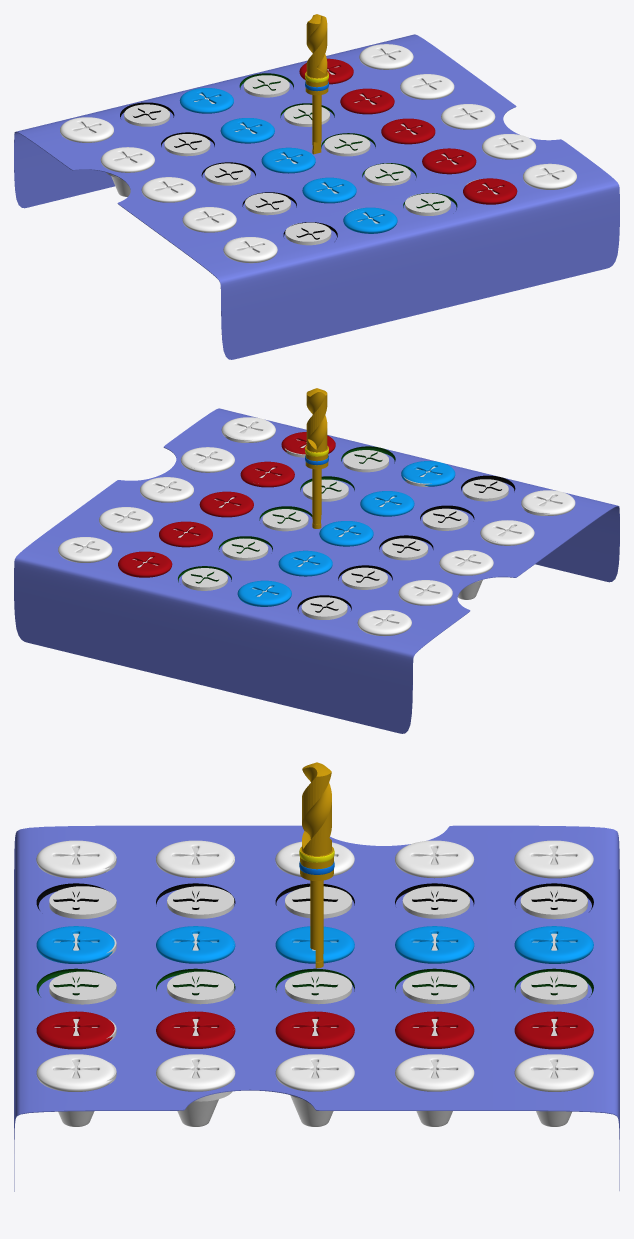
3 renders of one model, top to bottom at view 1: azimuth 30°, elevation 25°; view 2: azimuth 150°, elevation 25°; view 3: azimuth 270°, elevation 25°, orthographic. The views are drawn at different scales.
Visible parts, largest first — view 1: Plane, Cylinder.002, Slot.002, Cube, Slot.015, Slot.025, Slot.005, Slot.030, Slot.014, Slot.022, Slot.024, Slot.013 (+12 smaller); view 2: Plane, Cylinder.002, Slot.003, Cube, Slot.011, Slot.021, Slot.026, Slot.001, Slot.023, Slot.024, Slot.012, Slot.022 (+12 smaller); view 3: Plane, Cylinder.002, Slot.029, Slot.028, Slot.026, Slot.027, Slot.030, Cube, Slot.001, Slot.021, Slot.011, Slot.014 (+12 smaller).
Part boxes in pixels (left/top/right/bottom): Plane: left=14, top=34, right=619, bottom=359; Cylinder.002: left=74, top=50, right=562, bottom=252; Slot.002: left=100, top=147, right=154, bottom=196; Cube: left=306, top=14, right=327, bottom=78; Slot.015: left=343, top=207, right=397, bottom=233; Slot.025: left=463, top=178, right=517, bottom=204; Slot.005: left=223, top=237, right=277, bottom=263; Slot.030: left=523, top=163, right=576, bottom=189; Slot.014: left=302, top=177, right=356, bottom=203; Slot.022: left=340, top=88, right=394, bottom=114; Slot.024: left=422, top=148, right=476, bottom=174; Slot.013: left=261, top=147, right=315, bottom=173; Plane: left=14, top=408, right=619, bottom=733; Cylinder.002: left=73, top=423, right=560, bottom=625; Slot.003: left=439, top=550, right=493, bottom=599; Cube: left=305, top=388, right=328, bottom=452; Slot.011: left=237, top=580, right=291, bottom=606; Slot.021: left=118, top=551, right=172, bottom=577; Slot.026: left=58, top=537, right=112, bottom=562; Slot.001: left=357, top=610, right=411, bottom=636; Slot.023: left=199, top=491, right=253, bottom=517; Slot.024: left=240, top=461, right=294, bottom=487; Slot.012: left=278, top=550, right=332, bottom=576; Slot.022: left=159, top=521, right=212, bottom=547; Plane: left=14, top=825, right=619, bottom=1191; Cylinder.002: left=49, top=848, right=587, bottom=1101; Slot.029: left=156, top=1054, right=235, bottom=1126; Slot.028: left=275, top=1054, right=354, bottom=1126; Slot.026: left=514, top=1054, right=593, bottom=1126; Slot.027: left=395, top=1054, right=474, bottom=1126; Slot.030: left=36, top=1054, right=114, bottom=1126; Cube: left=300, top=762, right=333, bottom=856; Slot.001: left=514, top=840, right=593, bottom=878; Slot.021: left=514, top=1011, right=593, bottom=1049; Slot.011: left=514, top=926, right=593, bottom=963; Slot.014: left=156, top=926, right=235, bottom=963.
Bounding box in the file's own units: 0.1 × 0.0537 × 0.09.
